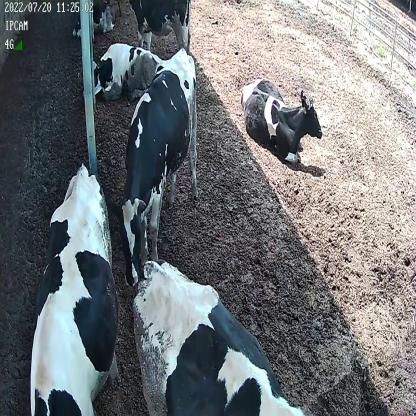cow: (26, 163, 121, 416), (108, 45, 201, 285), (238, 70, 324, 167), (84, 41, 162, 102)
